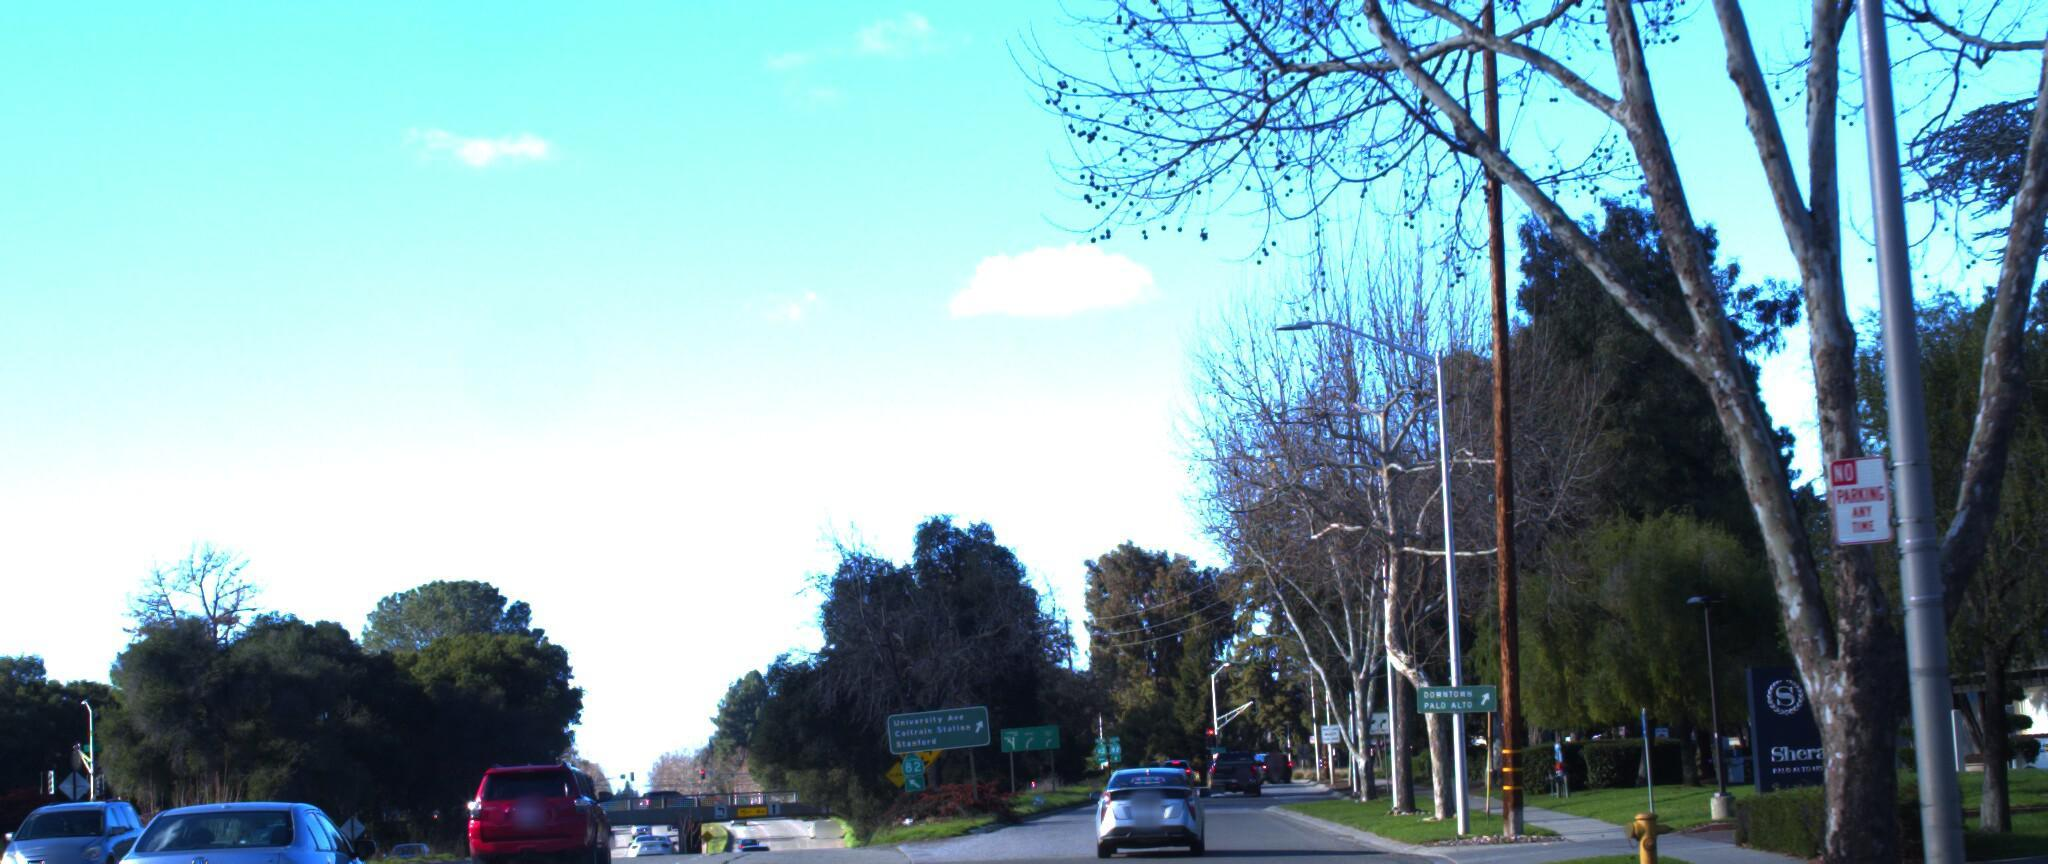car: (98, 760, 401, 864), (462, 753, 622, 864), (0, 784, 162, 864), (1078, 750, 1206, 851)
